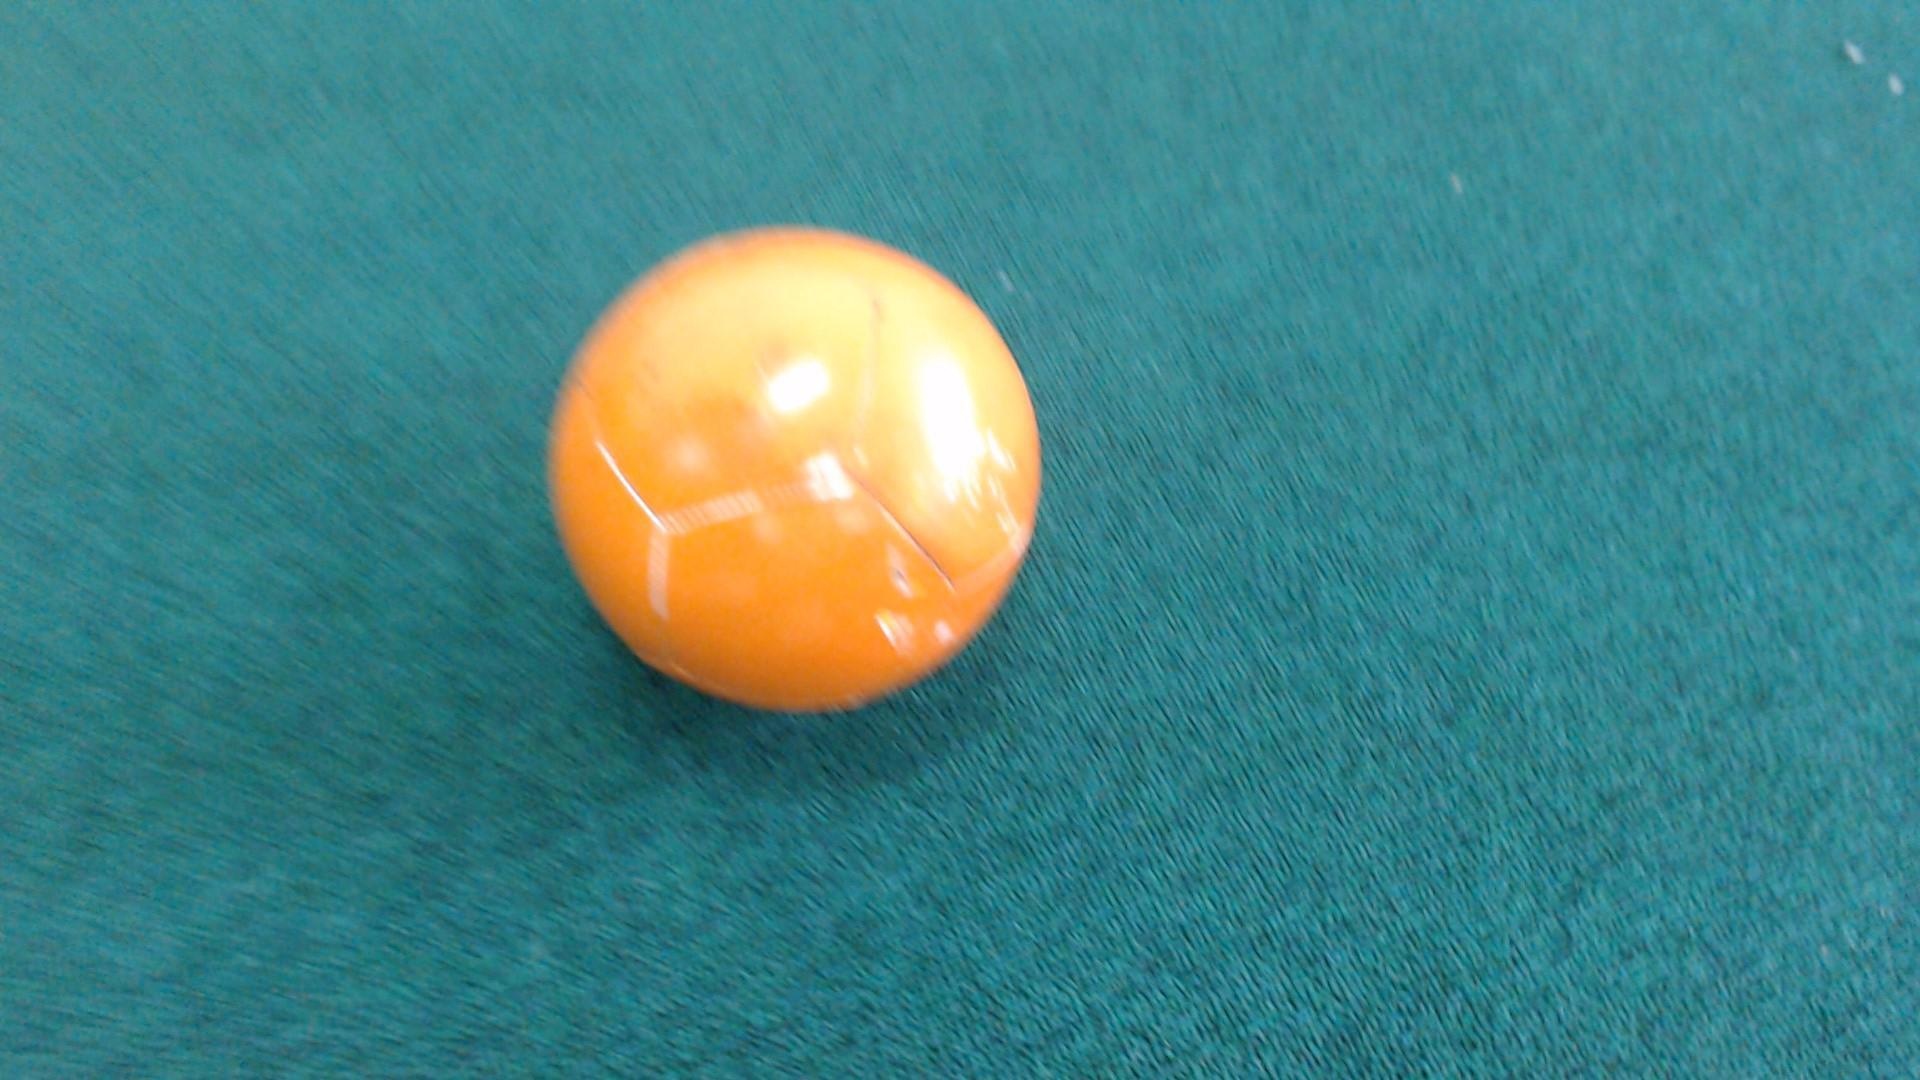bola: (514, 219, 1097, 744)
